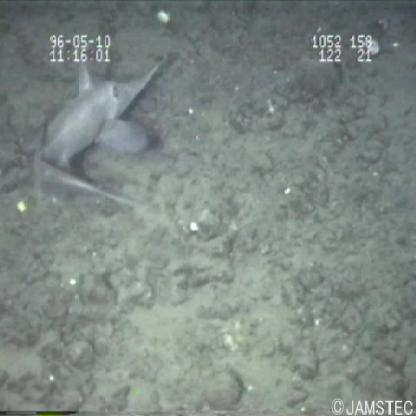Bio: (25, 43, 169, 212)
